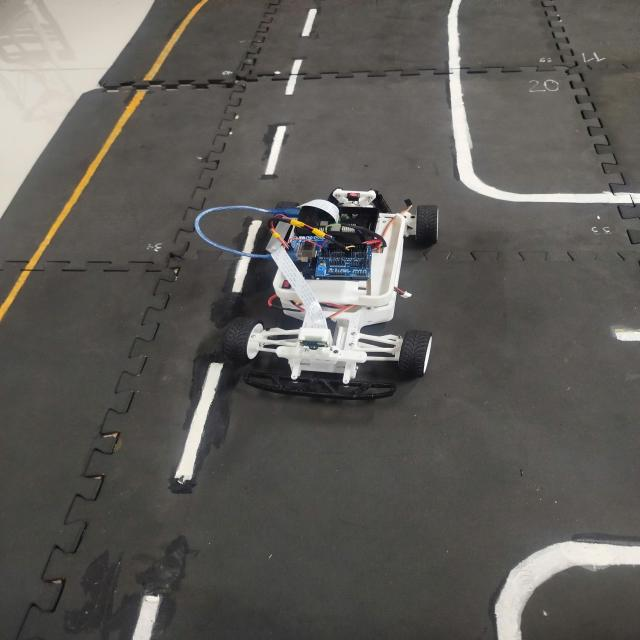SiCo-CAR: (208, 186, 440, 400)
